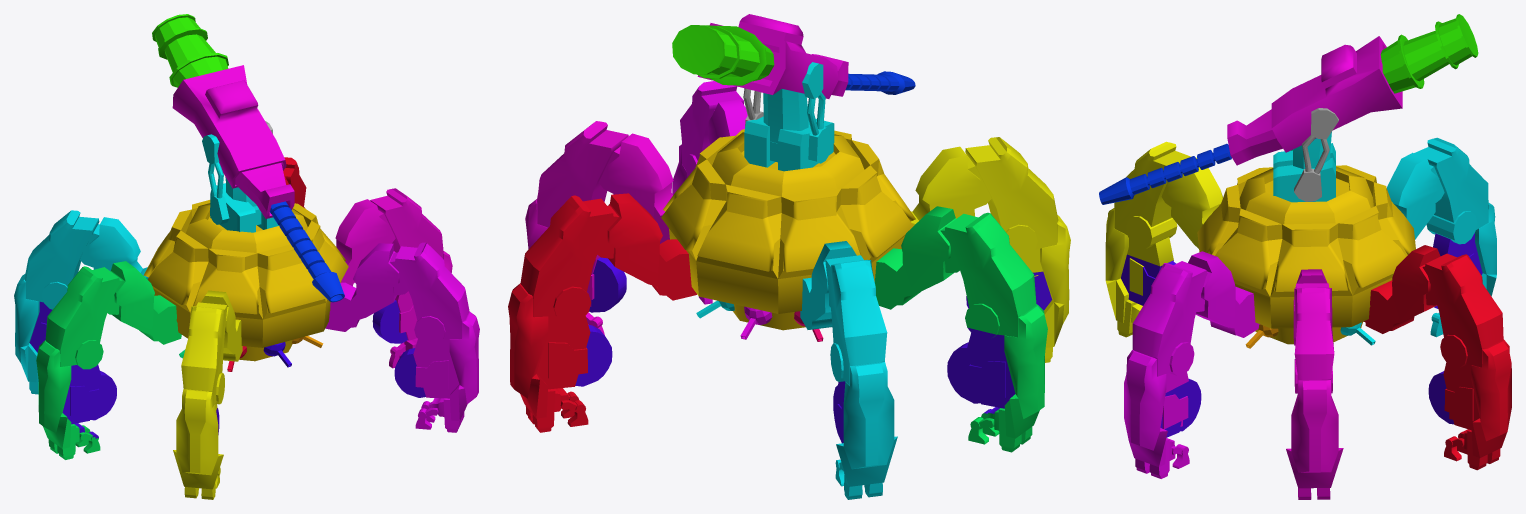
Rendered from crab_2 1.fbx.
3 views of the same model, side by side, from view 1: azimuth 30°, elevation 25°; view 2: azimuth 150°, elevation 25°; view 3: azimuth 270°, elevation 25° (orthographic). The views are drawn at different scales.
Visible parts, largest first — view 1: GEO_Spider_mech_leg_one_GEO_Leg_Set_GEO_Leg_1_R_GEO_Leg_1_L_ (×6), GEO_Mech_Main_Body, Cannon_Body, Cannon_Back, Cannon, Cannon_Holder_Base_Foundation, Cannon_Holder_2; view 2: GEO_Spider_mech_leg_one_GEO_Leg_Set_GEO_Leg_1_R_GEO_Leg_1_L_ (×6), GEO_Mech_Main_Body, Cannon_Back, Cannon_Body, Cannon_Holder_Base_Foundation, Cannon_Holder_2, Cannon_Main_Holder, Cannon; view 3: GEO_Spider_mech_leg_one_GEO_Leg_Set_GEO_Leg_1_R_GEO_Leg_1_L_ (×5), GEO_Mech_Main_Body, Cannon_Body, Cannon_Back, Cannon, Cannon_Holder_1, Cannon_Holder_Base_Foundation, Cannon_Main_Holder.
Boxes of the visible parts, left/top/right/bottom form: GEO_Spider_mech_leg_one_GEO_Leg_Set_GEO_Leg_1_R_GEO_Leg_1_L_ (×6): left=14, top=157, right=479, bottom=499; GEO_Mech_Main_Body: left=143, top=200, right=348, bottom=361; Cannon_Body: left=172, top=65, right=294, bottom=218; Cannon_Back: left=152, top=14, right=228, bottom=87; Cannon: left=270, top=201, right=344, bottom=302; Cannon_Holder_Base_Foundation: left=210, top=183, right=278, bottom=232; Cannon_Holder_2: left=202, top=134, right=229, bottom=224; GEO_Spider_mech_leg_one_GEO_Leg_Set_GEO_Leg_1_R_GEO_Leg_1_L_ (×6): left=508, top=81, right=1070, bottom=499; GEO_Mech_Main_Body: left=661, top=129, right=915, bottom=330; Cannon_Back: left=672, top=25, right=774, bottom=85; Cannon_Body: left=697, top=14, right=848, bottom=98; Cannon_Holder_Base_Foundation: left=744, top=116, right=834, bottom=171; Cannon_Holder_2: left=802, top=62, right=832, bottom=163; Cannon_Main_Holder: left=763, top=89, right=808, bottom=143; Cannon: left=845, top=71, right=915, bottom=94; GEO_Spider_mech_leg_one_GEO_Leg_Set_GEO_Leg_1_R_GEO_Leg_1_L_ (×5): left=1105, top=137, right=1511, bottom=499; GEO_Mech_Main_Body: left=1197, top=165, right=1415, bottom=344; Cannon_Body: left=1227, top=36, right=1402, bottom=165; Cannon_Back: left=1380, top=14, right=1478, bottom=93; Cannon: left=1099, top=143, right=1231, bottom=204; Cannon_Holder_1: left=1294, top=108, right=1338, bottom=201; Cannon_Holder_Base_Foundation: left=1273, top=143, right=1335, bottom=202; Cannon_Main_Holder: left=1293, top=132, right=1331, bottom=168.
Size of the model in its own units: 3053 by 2454 by 2410.
